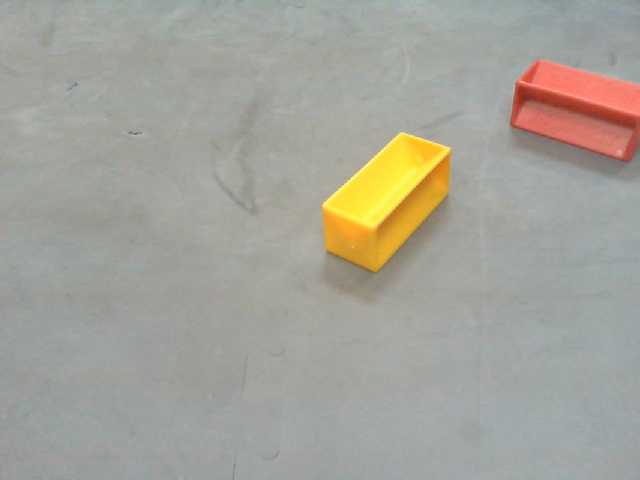RedSample: (506, 59, 640, 160)
YellowSample: (321, 133, 450, 274)
